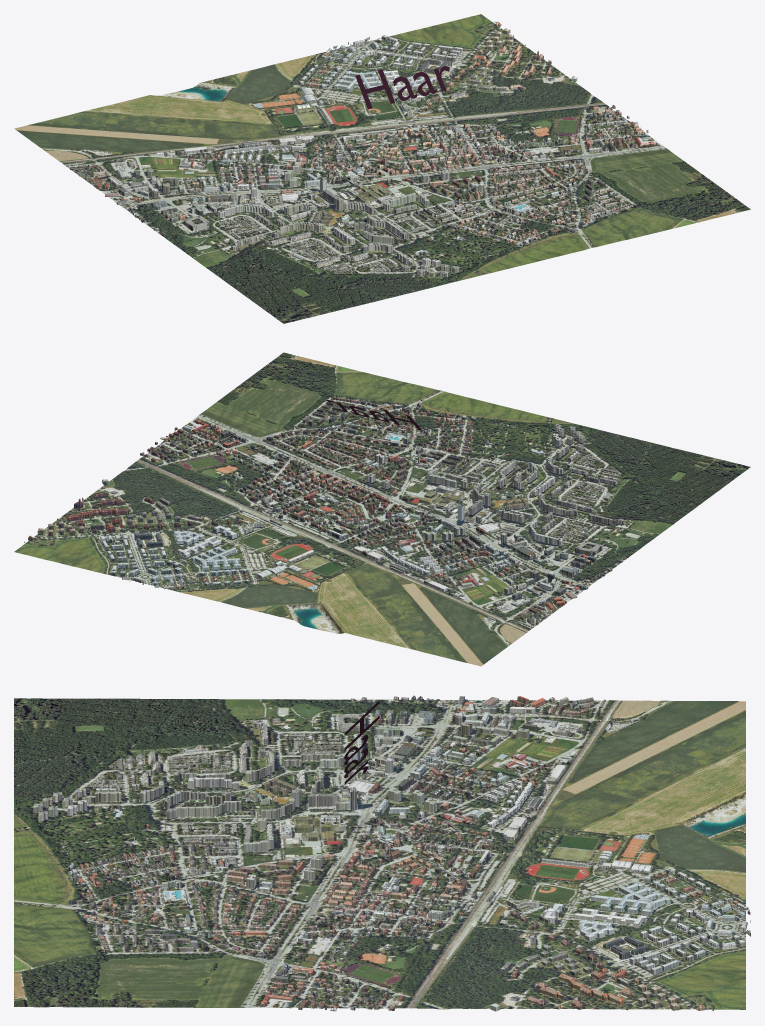
File: asset.glb
3 views of the same model, one above another, from view 1: azimuth 30°, elevation 25°; view 2: azimuth 150°, elevation 25°; view 3: azimuth 270°, elevation 25° (orthographic). The views are drawn at different scales.
Parts seen in each view (by area): view 1: Haar_DGM_10m, B, A, Text.001; view 2: Haar_DGM_10m, B, A; view 3: Haar_DGM_10m, B, A, Text.001.
Boxes of the visible parts, x1,y1,x2,y2 form: Haar_DGM_10m: (14, 14, 750, 323); B: (153, 109, 655, 277); A: (64, 21, 615, 223); Text.001: (355, 66, 449, 109); Haar_DGM_10m: (14, 352, 750, 666); B: (147, 396, 626, 564); A: (24, 452, 612, 629); Haar_DGM_10m: (14, 698, 745, 1009); B: (33, 697, 388, 1011); A: (374, 695, 750, 1011); Text.001: (344, 700, 379, 784).
Bounding box in the file's own units: 2022 × 424 × 2003.
4 materials, 3 textured.
